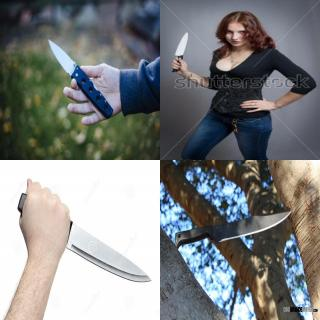knife: (43, 184, 153, 286), (46, 35, 101, 115), (206, 206, 296, 246), (166, 30, 192, 68)
